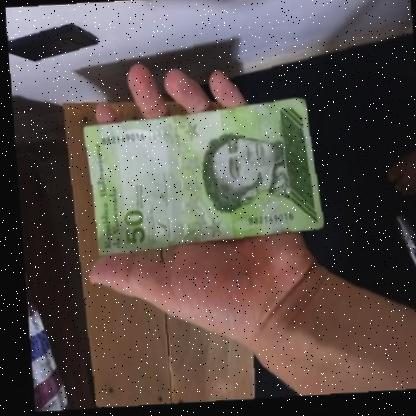fifty-front-vef: (76, 93, 324, 261)
